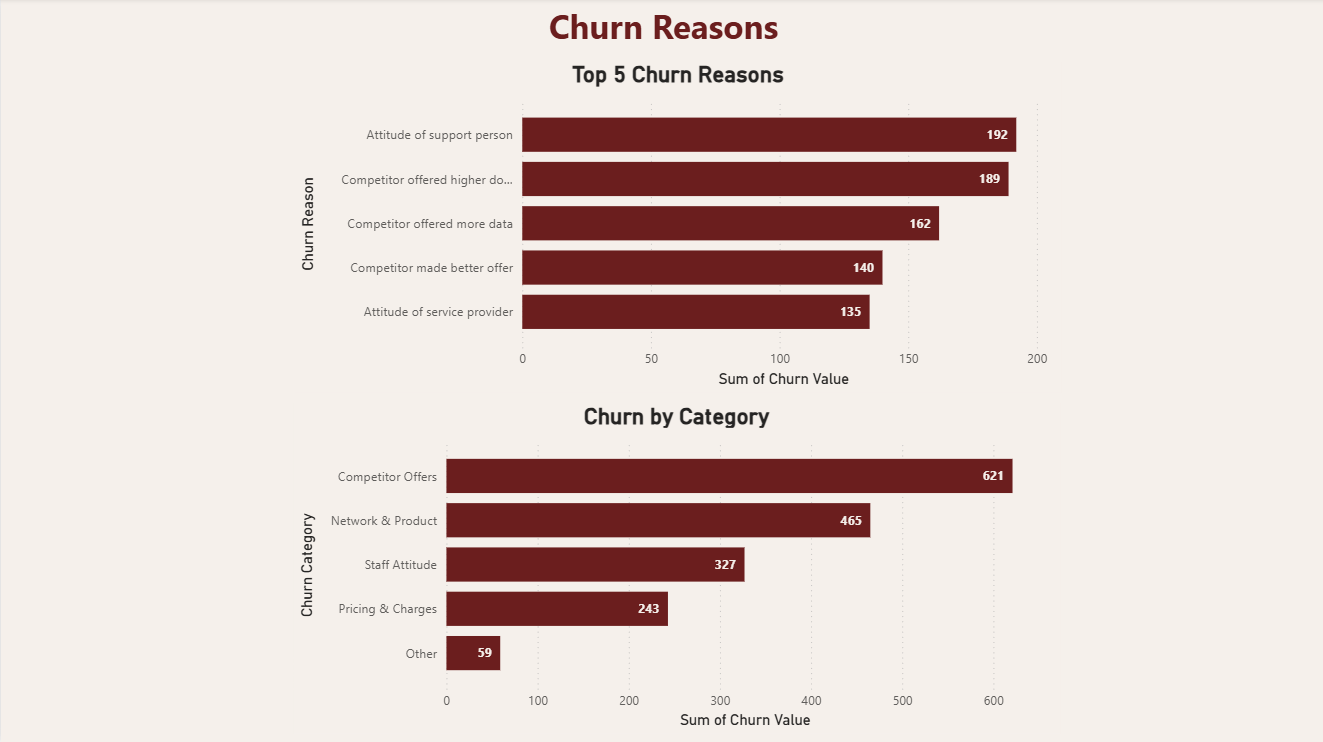

The page's visual inventory and layout, read from the dashboard file:
{"tool":"powerbi","page":{"name":"Churn Reasons","canvas":[1280,720],"ordinal":6},"visuals":[{"type":"textbox","box":[498.9,0,280,61.1],"z":0},{"type":"clusteredBarChart","title":"Top 5 Churn Reasons","fields":{"Category":["telco_churn_cleaned.Churn Reason"],"Y":["Sum(telco_churn_cleaned.Churn Value)"]},"box":[283.7,61.1,739.8,319.2],"z":1000},{"type":"clusteredBarChart","title":"Churn by Category","fields":{"Category":["telco_churn_cleaned.Churn Category"],"Y":["Sum(telco_churn_cleaned.Churn Value)"]},"box":[282.5,391.3,739.8,319.2],"z":2000}]}

Visuals, with their boxes in screenshot pixels (x1, y1, x2, y2), scaled from the page's 1280x720 canvas onto the 1323x742 screenshot:
textbox: crop(516, 0, 805, 63)
"Top 5 Churn Reasons" clusteredBarChart: crop(293, 63, 1058, 392)
"Churn by Category" clusteredBarChart: crop(292, 403, 1057, 732)
